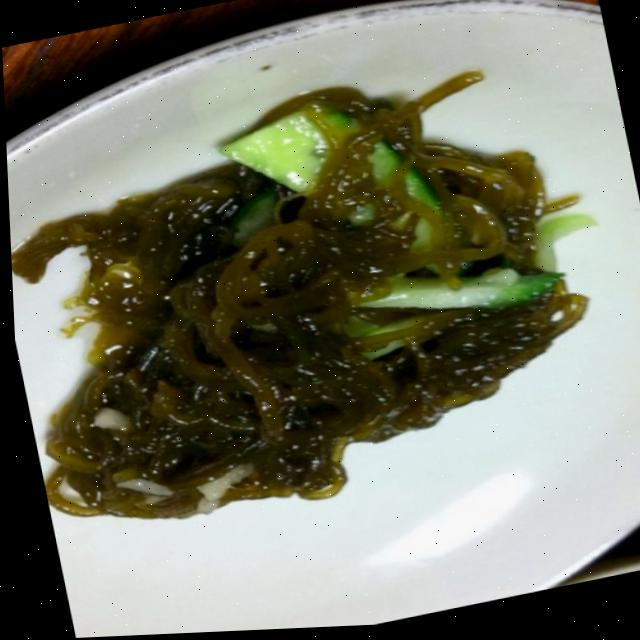蔬菜料理: (2, 36, 640, 608)
